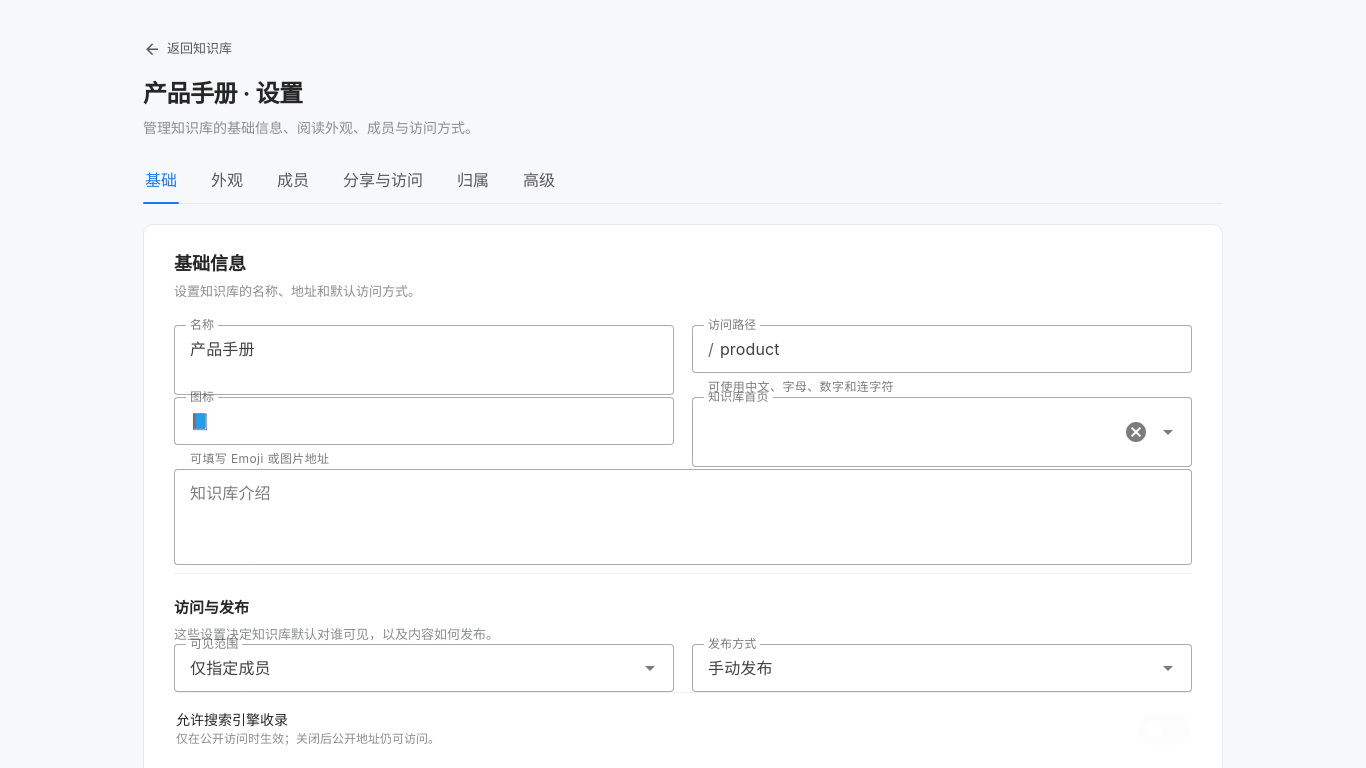
Test: knowledge-base ownership settings › shows a disabled selector and a clear empty state when no authorized target exists
Click the button "归属" at (473, 180), box [455,157,491,203]
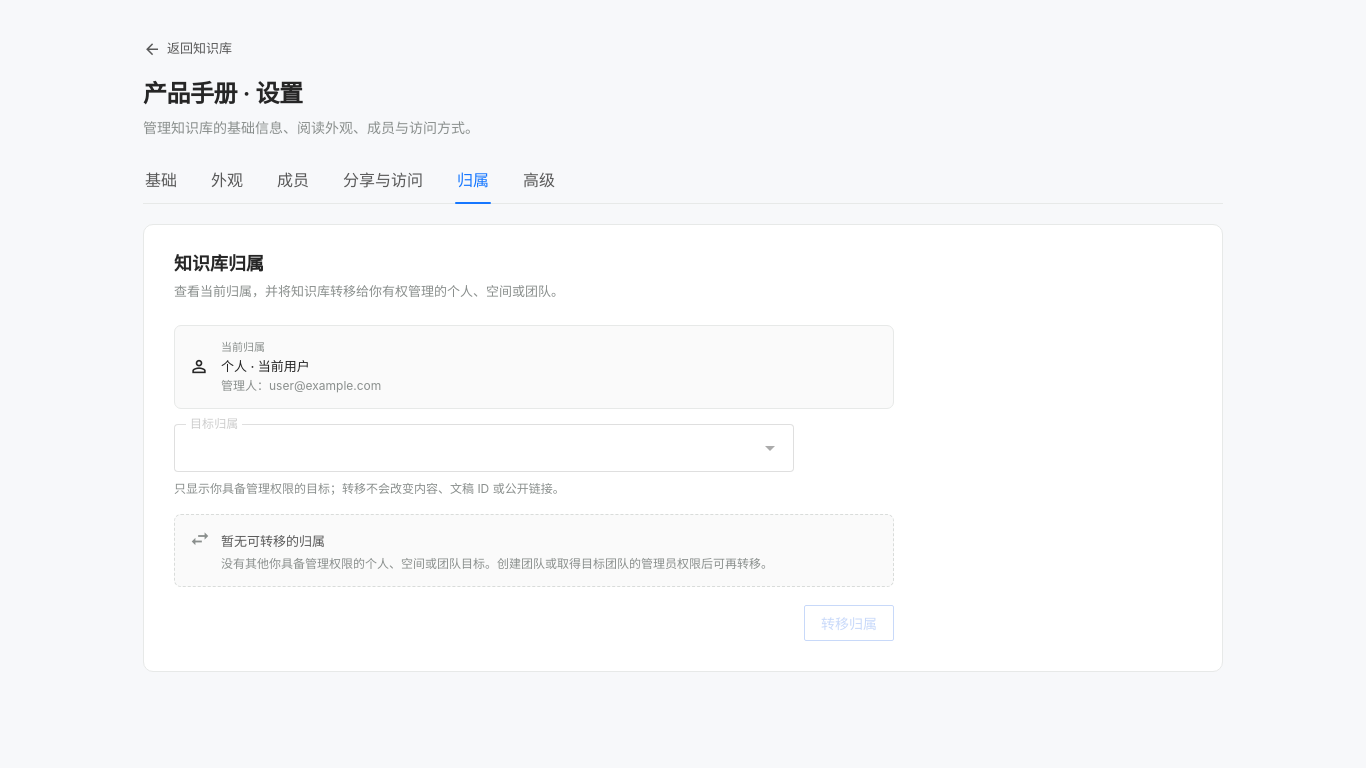
Result: the element with class "ownership-empty" shows "暂无可转移的归属" at [221,533,325,549]
Result: the element with class "ownership-empty" shows "没有其他你具备管理权限" at [221,556,773,571]
Result: the button "转移归属" is disabled at [804,605,894,641]
